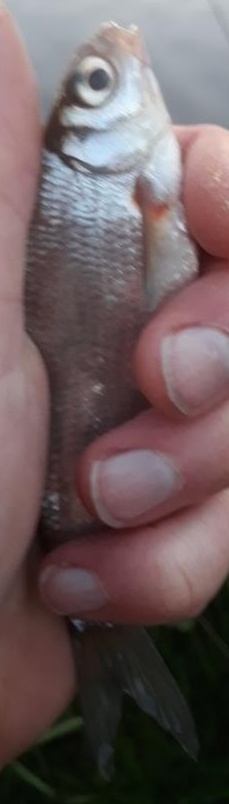Blicca bjoerkna: (20, 20, 209, 784)
